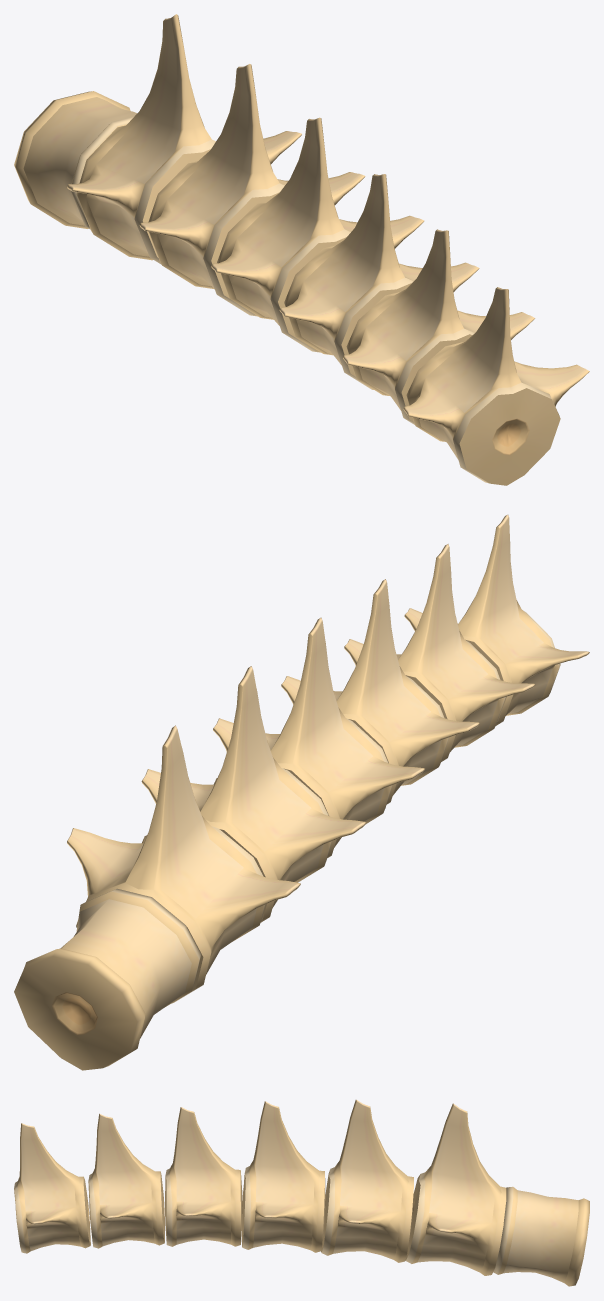
Rendered from SpineHalfTilt.fbx.
3 renders of one model, top to bottom at view 1: azimuth 30°, elevation 25°; view 2: azimuth 150°, elevation 25°; view 3: azimuth 270°, elevation 25°, orthographic. The views are drawn at different scales.
Visible parts, largest first — view 1: pCylinder13; view 2: pCylinder13; view 3: pCylinder13.
Boxes of the visible parts, x1,y1,x2,y2 form: pCylinder13: (14, 14, 589, 485); pCylinder13: (14, 514, 589, 1070); pCylinder13: (14, 1099, 589, 1286).
Size of the model in its own units: 3.32 by 3.95 by 11.14.
